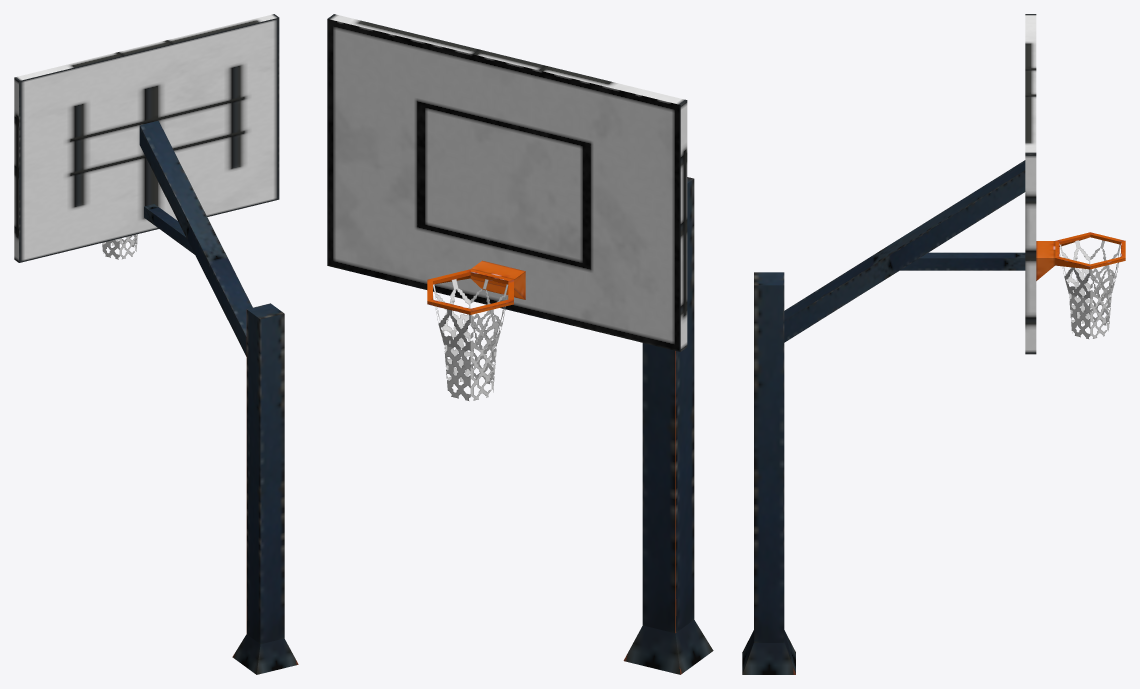
File: BasketballGoal01.obj
3 views of the same model, side by side, from view 1: azimuth 30°, elevation 25°; view 2: azimuth 150°, elevation 25°; view 3: azimuth 270°, elevation 25° (orthographic). The views are drawn at different scales.
Parts seen in each view (by area): view 1: BasketballGoal01; view 2: BasketballGoal01; view 3: BasketballGoal01.
Boxes of the visible parts, box(x1,y1,x2,y2) form: BasketballGoal01: box(14, 14, 298, 674); BasketballGoal01: box(327, 14, 713, 674); BasketballGoal01: box(742, 14, 1125, 674).
Size of the model in its own units: 3.24 by 6.27 by 3.75.
